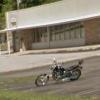Motorcycle: (33, 50, 89, 92)
